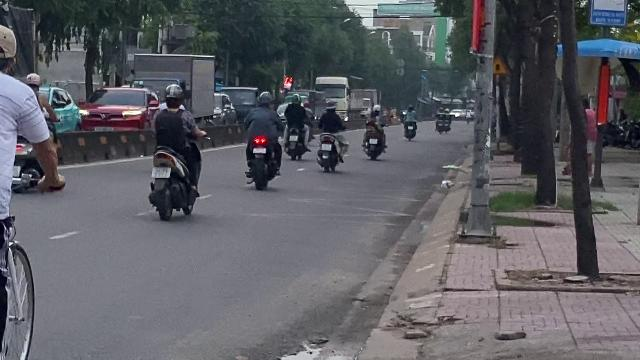helmet: (162, 83, 184, 107)
licenseplate: (151, 166, 169, 178)
motorcyclist: (146, 82, 204, 219)
